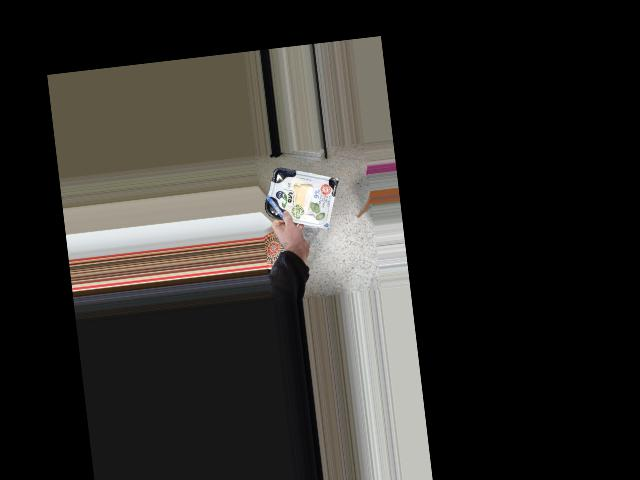cheese: (268, 170, 333, 224)
